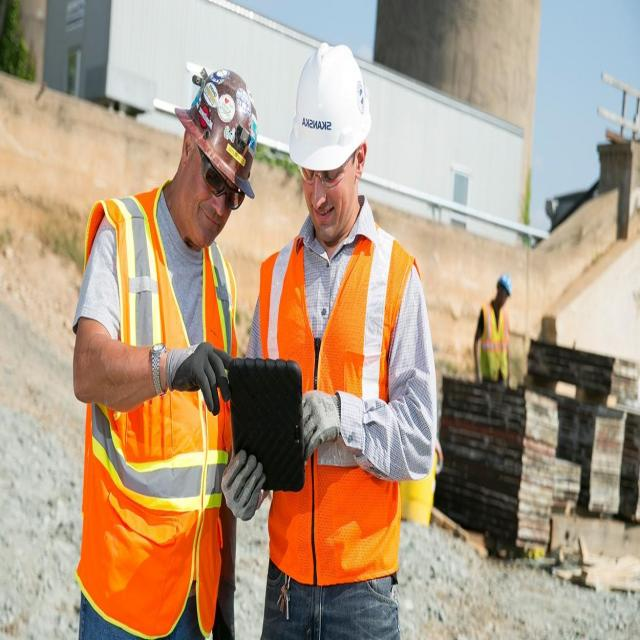Reflective-Jacket: (72, 200, 240, 638), (255, 221, 425, 592), (475, 302, 512, 388)
Safety-Helmet: (171, 61, 264, 201), (285, 38, 376, 174)
